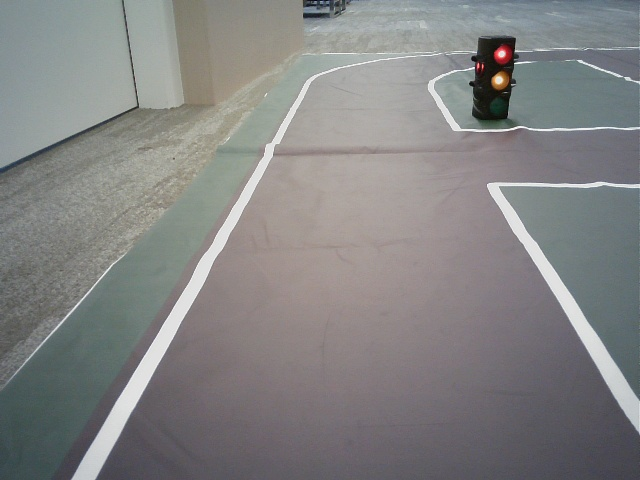red: (483, 42, 508, 116)
